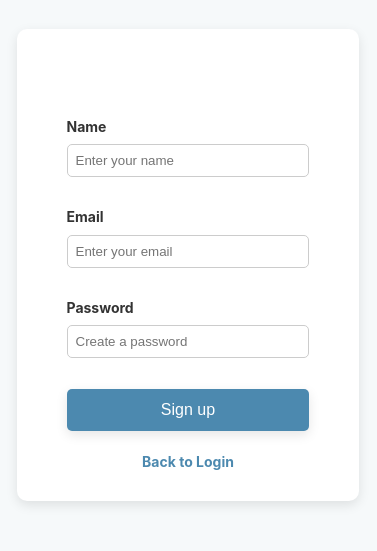
Test: RegisterPage › shows error message when user already exists
Type "Test User" into the field labelled "Name".
click(188, 161); type("Test User")  # box [66, 144, 310, 177]
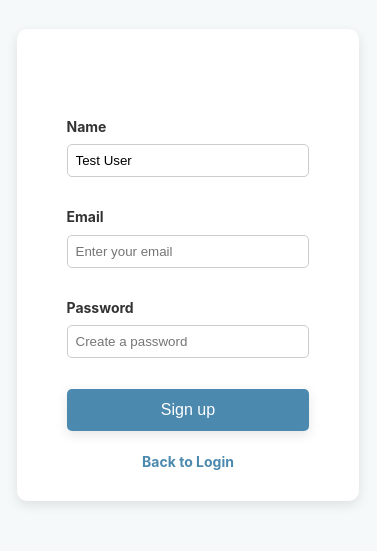
Type "testUser@example.com" into the field labelled "Email".
click(188, 251); type("testUser@example.com")  # box [66, 235, 310, 268]
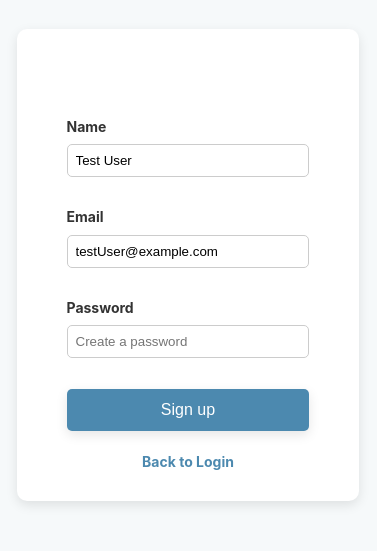
Type "password123" into the password field labelled "Password".
click(188, 342); type("password123")  # box [66, 325, 310, 358]
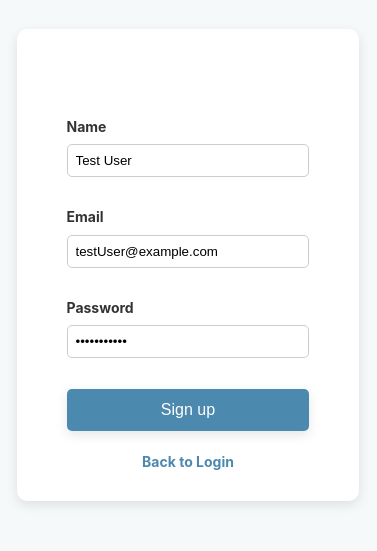
Click the button "Sign up".
click(188, 410)  # box [66, 389, 310, 431]
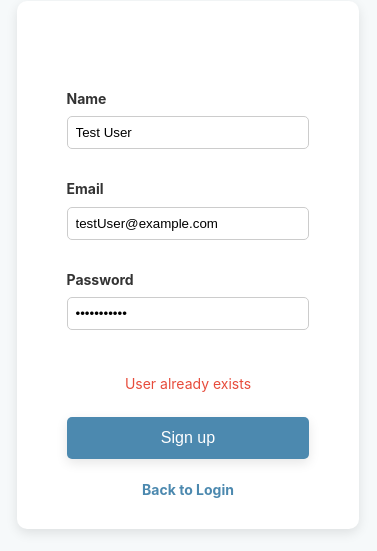
Expected: the text "User already exists" is shown, [125, 375, 251, 392]
